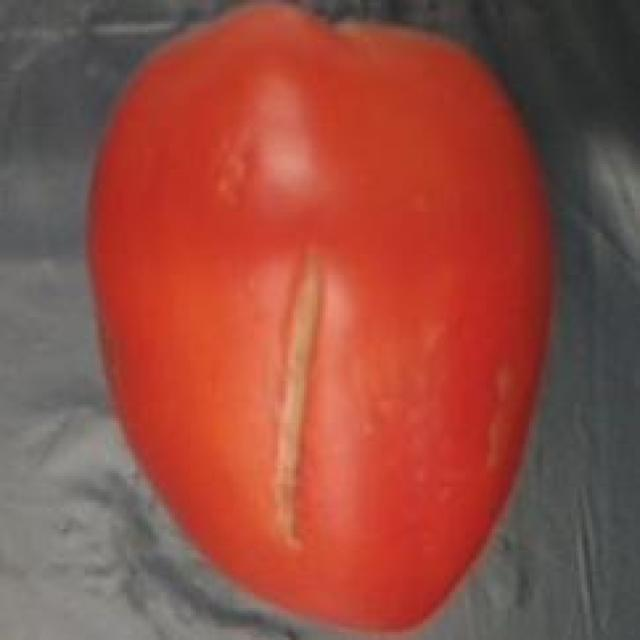ripe tomato: (66, 2, 558, 640)
